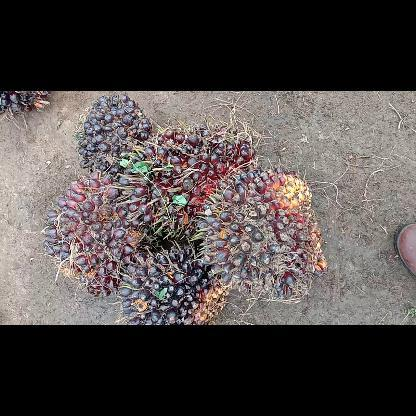TBS mentah: (193, 166, 330, 306), (117, 120, 257, 238), (40, 169, 156, 299), (112, 242, 230, 324), (74, 91, 156, 179)
